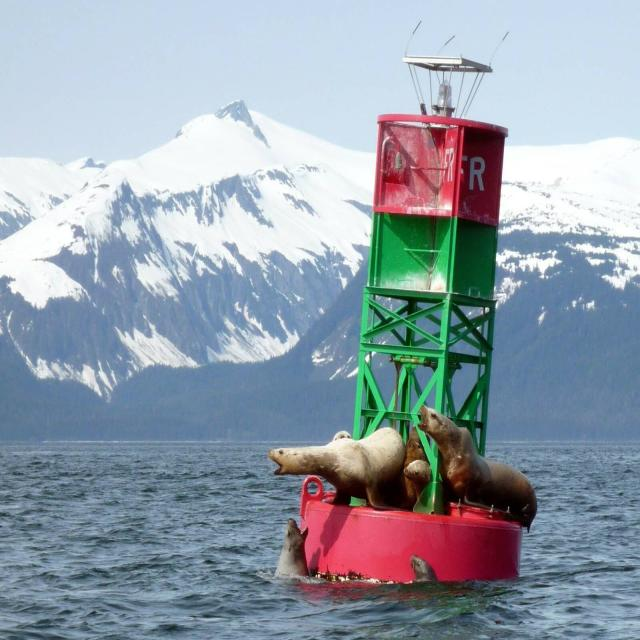marque: (272, 31, 542, 619)
